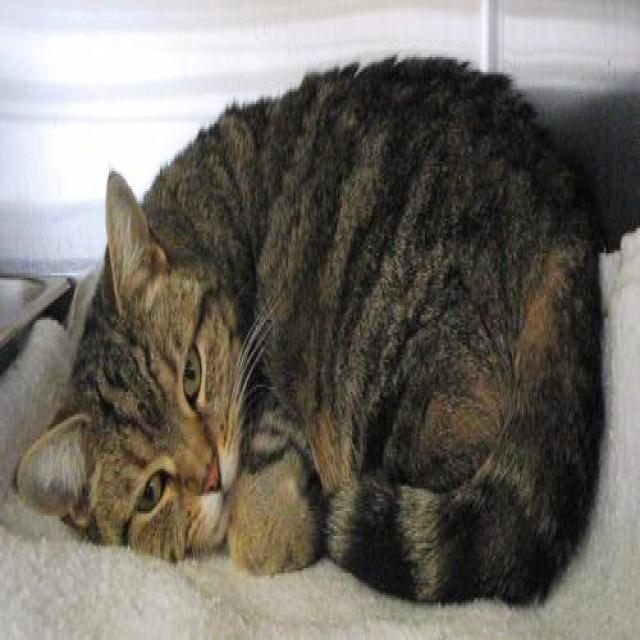Cats: (15, 50, 607, 608)
